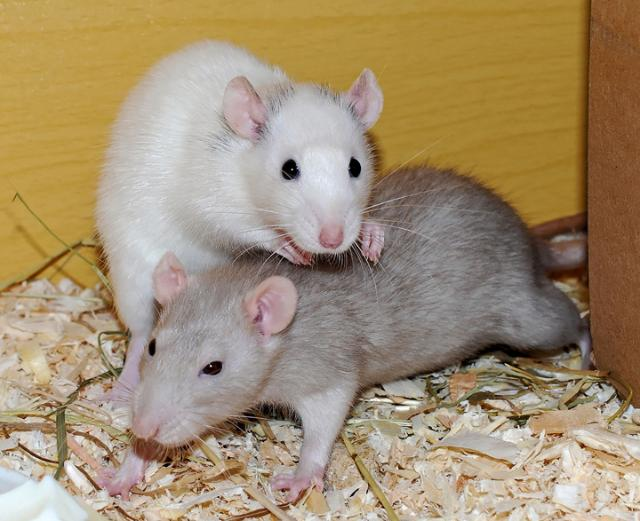rat: (80, 31, 404, 284), (106, 247, 386, 511)
